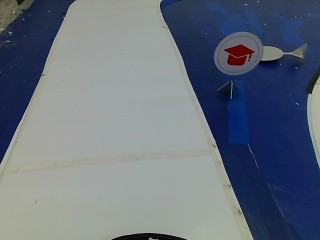school: (214, 31, 260, 79)
